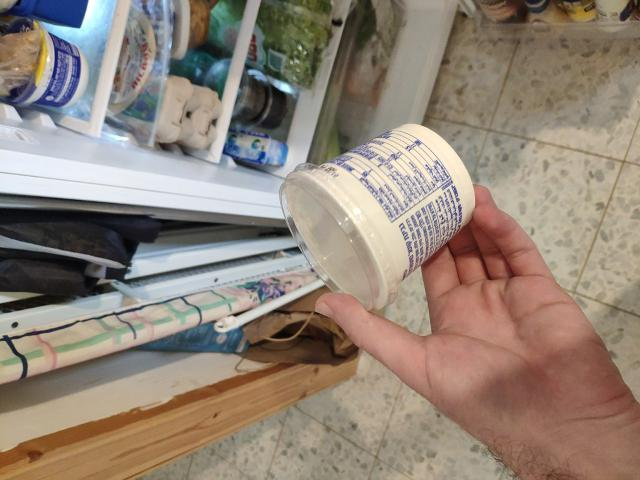cotage: (278, 129, 468, 295)
